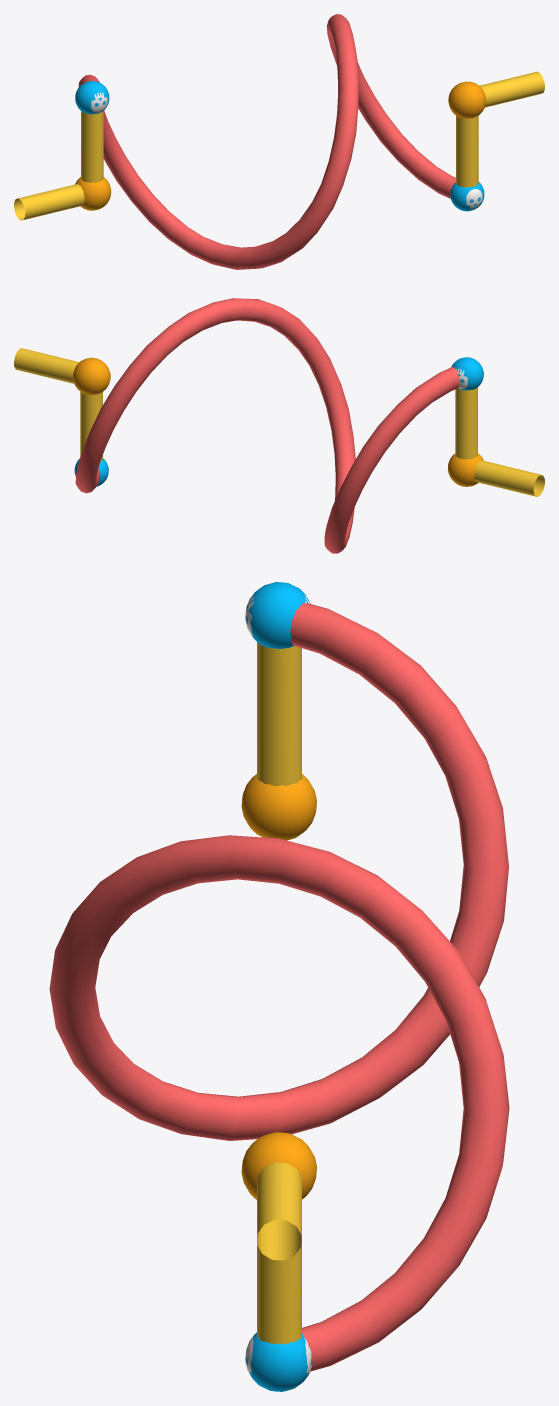
Rendered from rotate03.FBX.
3 views of the same model, one above another, from view 1: azimuth 30°, elevation 25°; view 2: azimuth 150°, elevation 25°; view 3: azimuth 270°, elevation 25° (orthographic). The views are drawn at different scales.
Parts seen in each view (by area): view 1: rotate03; view 2: rotate03; view 3: rotate03.
Boxes of the visible parts, <box> form: rotate03: <box>14,14,544,269</box>; rotate03: <box>14,298,544,553</box>; rotate03: <box>49,582,509,1391</box>.
Bounding box in the file's own units: 18.11 × 7.28 × 6.94.
1 material, 1 textured.
